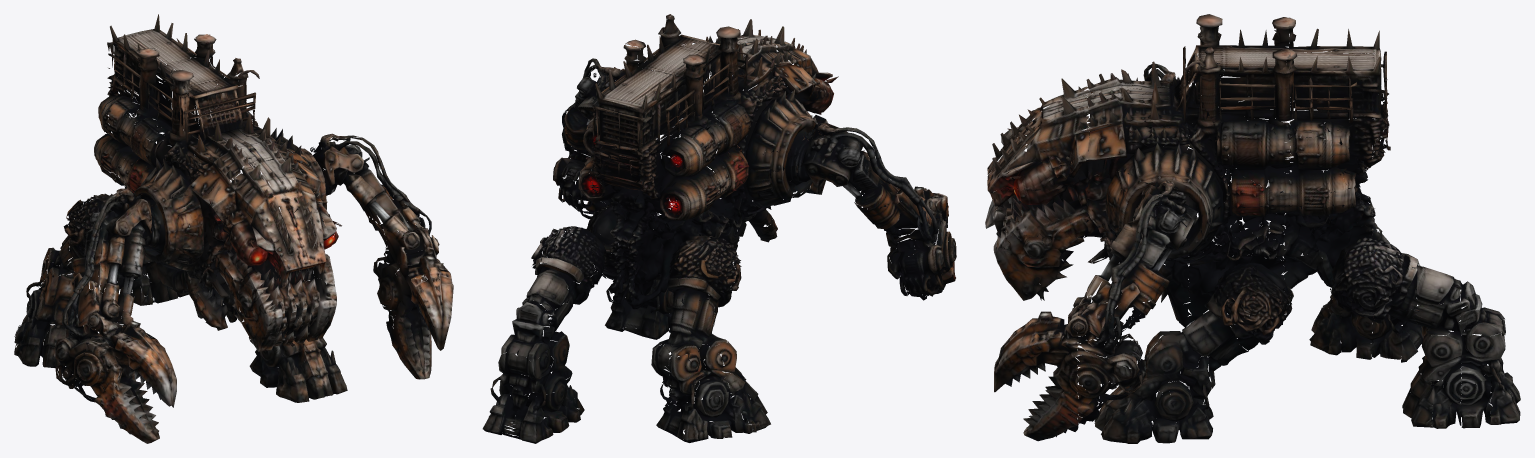
Rendered from hb_crusher.glb.
The picture shows the model from 3 angles, left to right: view 1: azimuth 30°, elevation 25°; view 2: azimuth 150°, elevation 25°; view 3: azimuth 270°, elevation 25°; orthographic projection. The views are drawn at different scales.
Visible parts, largest first — view 1: world; view 2: world; view 3: world.
Part boxes in pixels (left/top/right/bottom): world: left=14, top=14, right=453, bottom=443; world: left=482, top=14, right=956, bottom=443; world: left=985, top=14, right=1520, bottom=443.
Size of the model in its own units: 0.9058 by 0.7436 by 1.
1 material, 1 textured.
